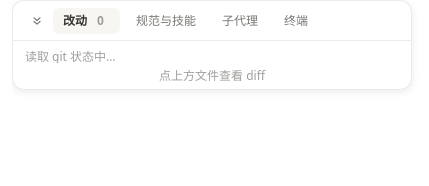
Test: RailPanel 终端 tab（useTerminalSessions 数据装载与事件归并） › 恢复快照记录初始化「已退出」组：list-for 为空时恢复记录进列表
Click the tab with test id "rail-tab-terminals".
click(296, 20)  # box x1=274 y1=8 x2=318 y2=34
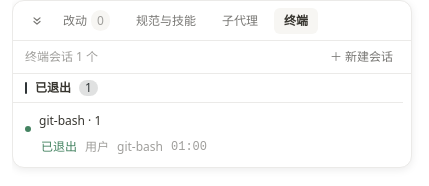
Now the text "git-bash · 1" is shown, box x1=39 y1=112 x2=101 y2=129
Now the number of elements with test id "terminal-rail-group-header" is 1, box x1=13 y1=74 x2=403 y2=103
